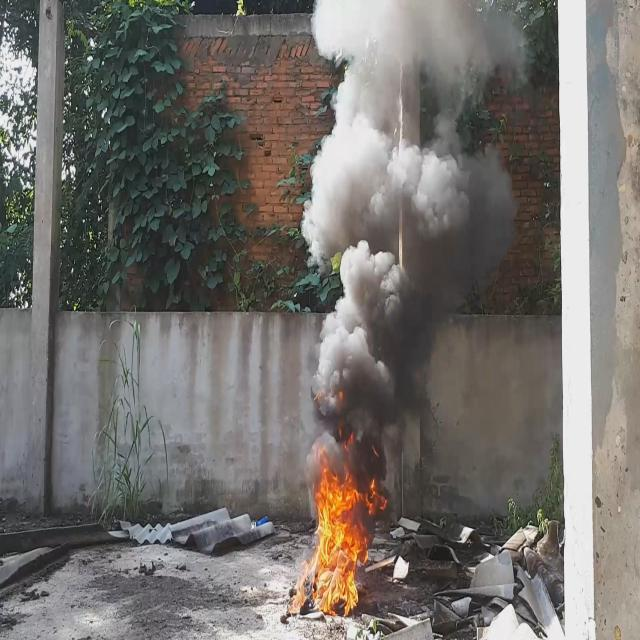Fire: (290, 438, 388, 622)
Smoke: (302, 0, 528, 486)
